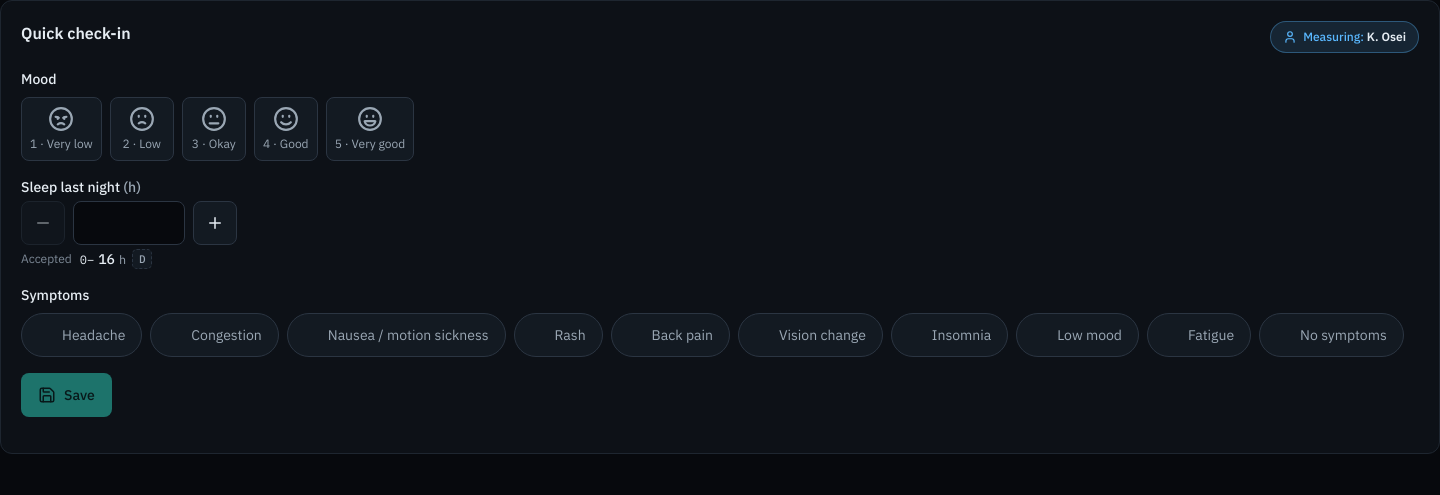
Test: QuickCheckIn › "No symptoms" clears ticked chips; sleep stepper; out-of-range sleep is blocked
The width and height of the screenshot is (1440, 495).
Step 1. Click the checkbox labelled "Rash" → (558, 335), box [514,313,603,357]
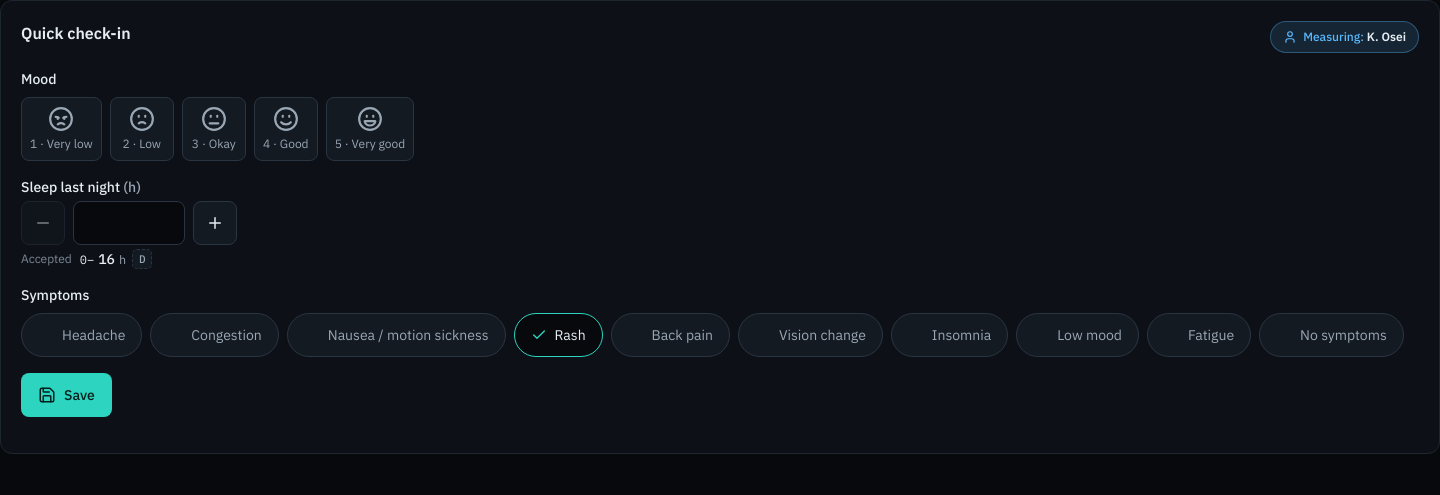
Step 2. Click the checkbox labelled "No symptoms" → (1331, 335), box [1259,313,1404,357]
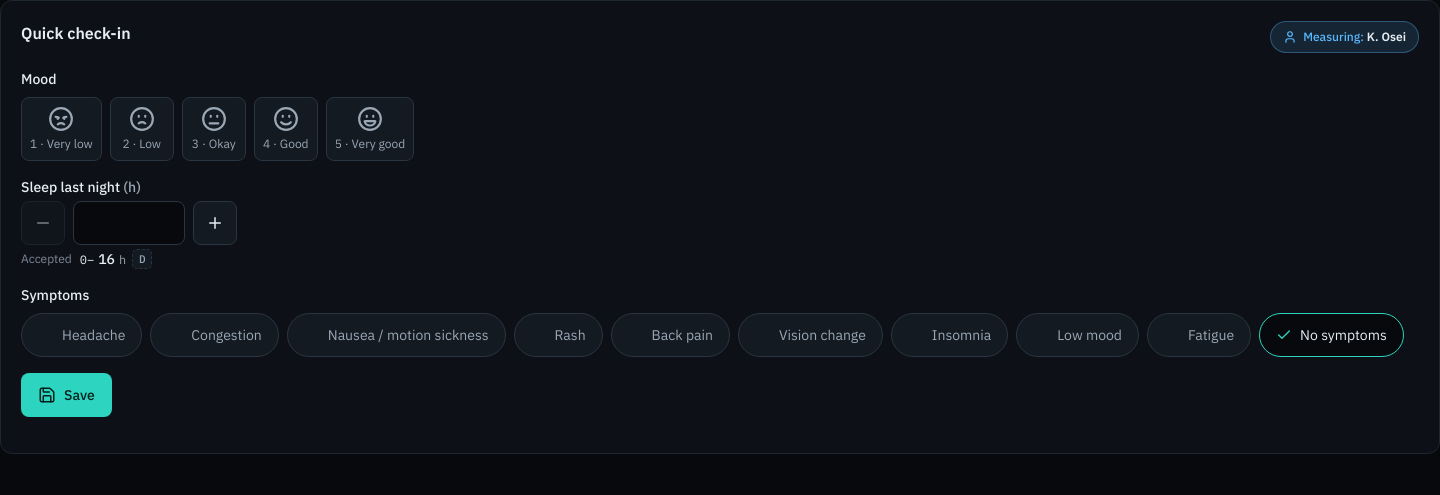
Now the checkbox labelled "Rash" is not checked, box [514,313,603,357]
Step 3. Click the 2nd button named "Increase Sleep last night" → (215, 223), box [193,201,237,245]
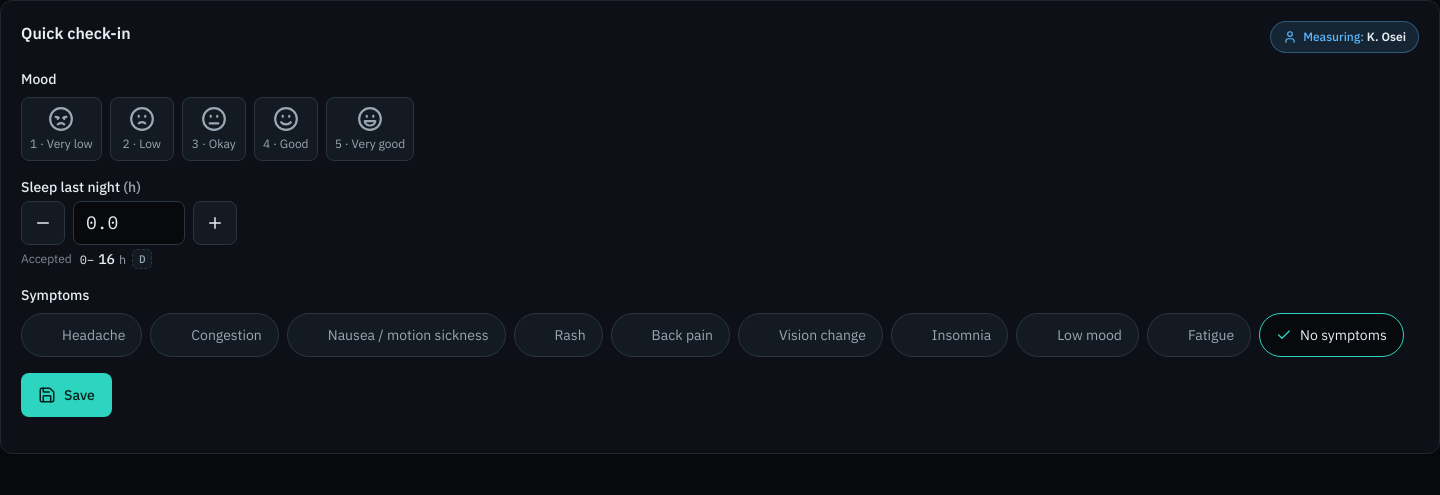
Now the field labelled "Sleep last night (h)" holds "0.0"
Step 4. Replace the text in the field labelled "Sleep last night (h)" with "17" → (129, 223), box [73,201,185,245]
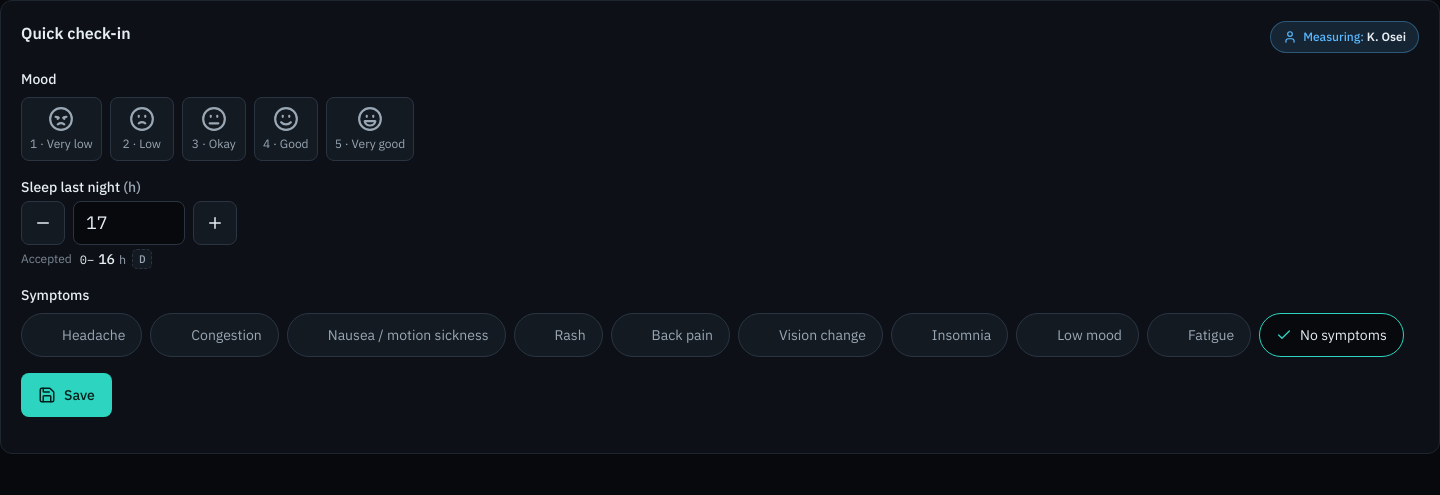
Step 5. Click the button "Save" → (66, 395), box [21,373,112,417]
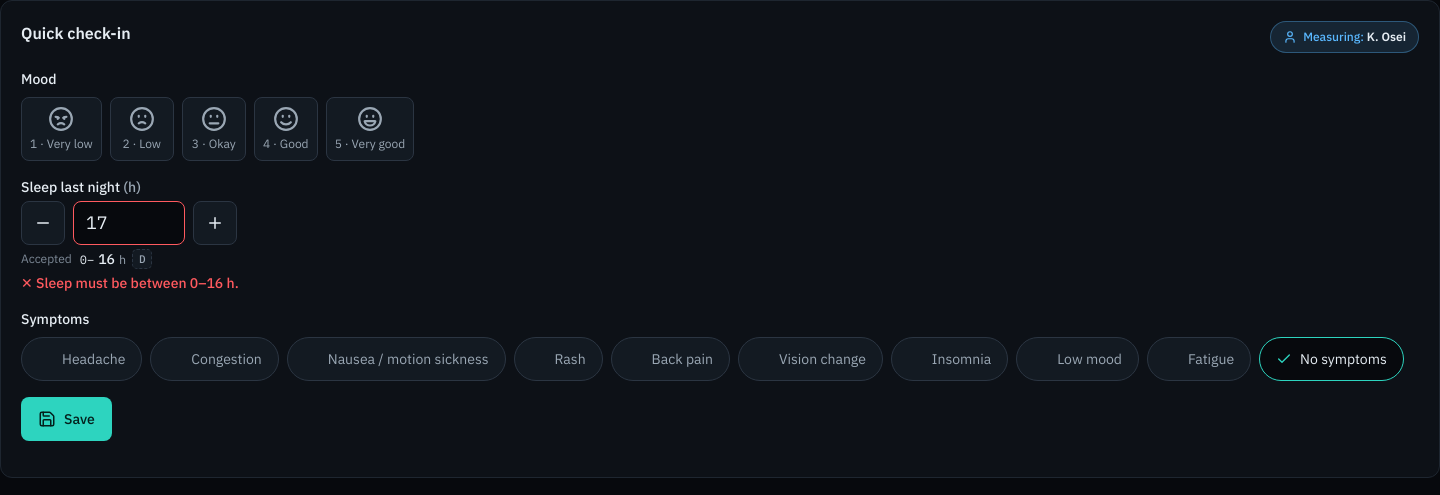
Now the text "Sleep must be between 0–16 h." is shown, box [36,274,239,292]
